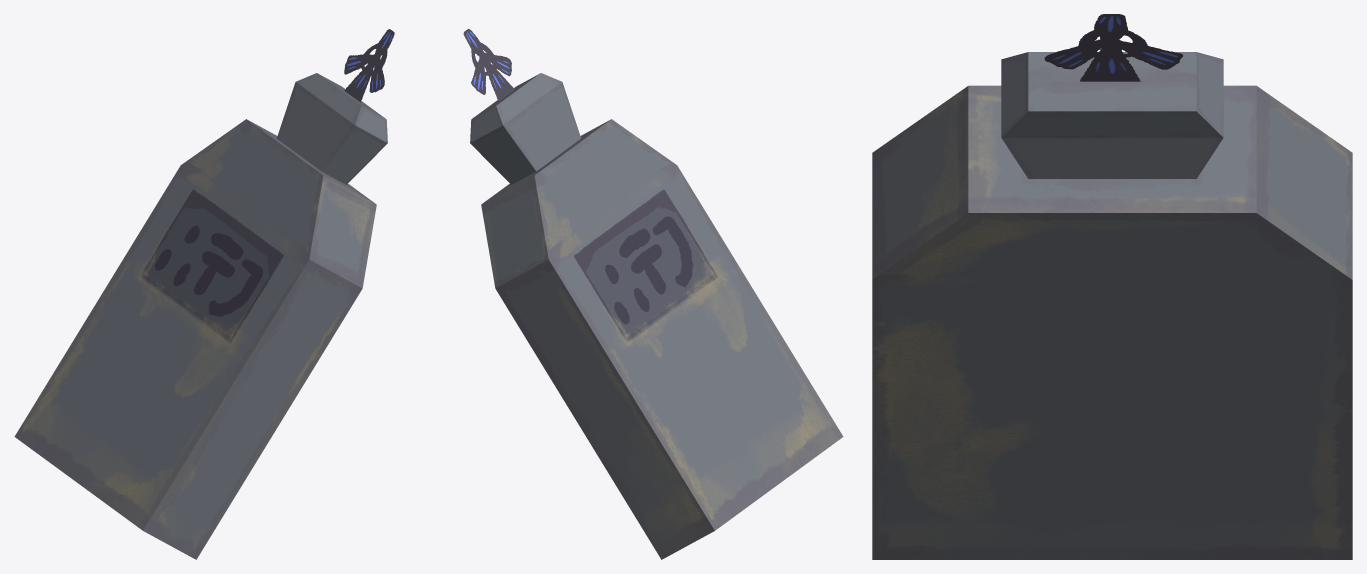
The model's file is LevelUp_ClimbGrave.fbx.
3 views of the same model, side by side, from view 1: azimuth 30°, elevation 25°; view 2: azimuth 150°, elevation 25°; view 3: azimuth 270°, elevation 25° (orthographic). The views are drawn at different scales.
Visible parts, largest first — view 1: TheGrave; view 2: TheGrave; view 3: TheGrave.
Boxes of the visible parts, <box> form: TheGrave: <box>14,29,394,559</box>; TheGrave: <box>463,29,843,559</box>; TheGrave: <box>872,14,1352,559</box>.
Size of the model in its own units: 281 by 359 by 200.
